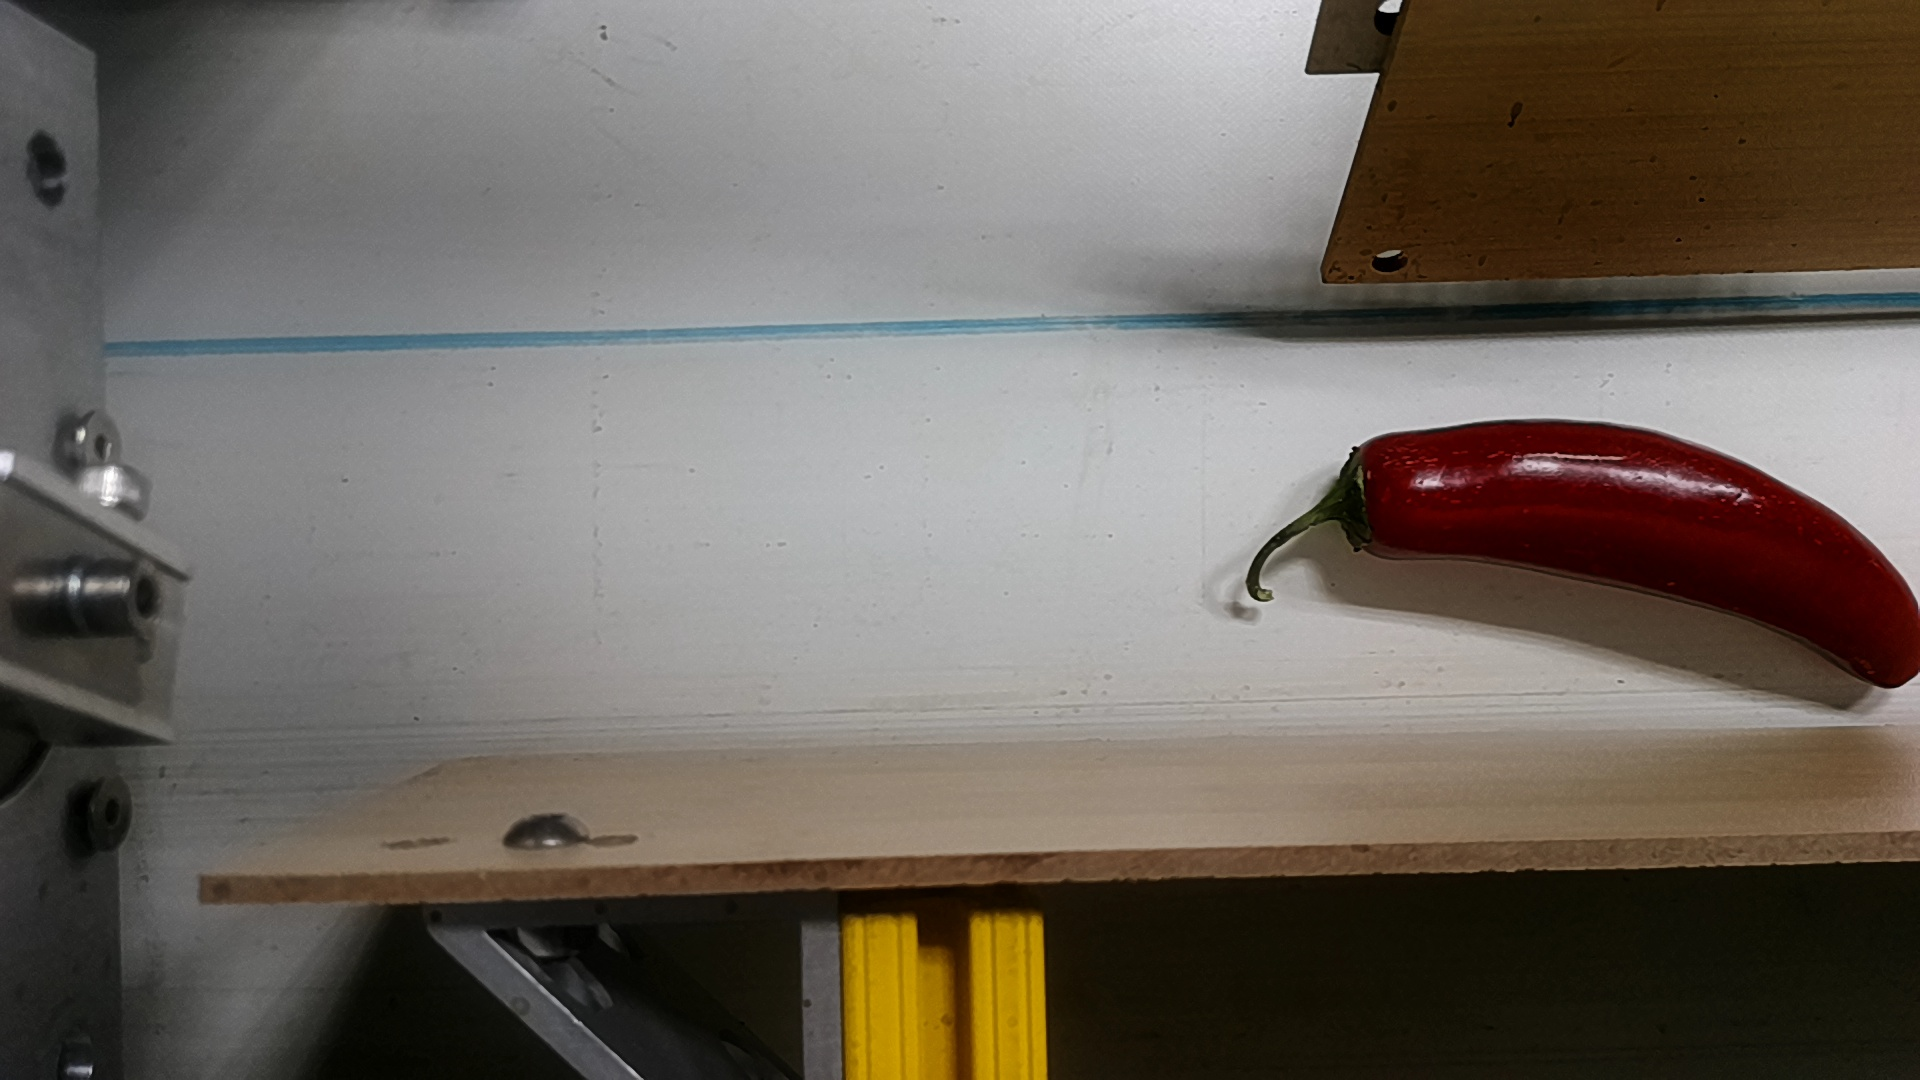Cut Point: (1315, 429, 1419, 568)
